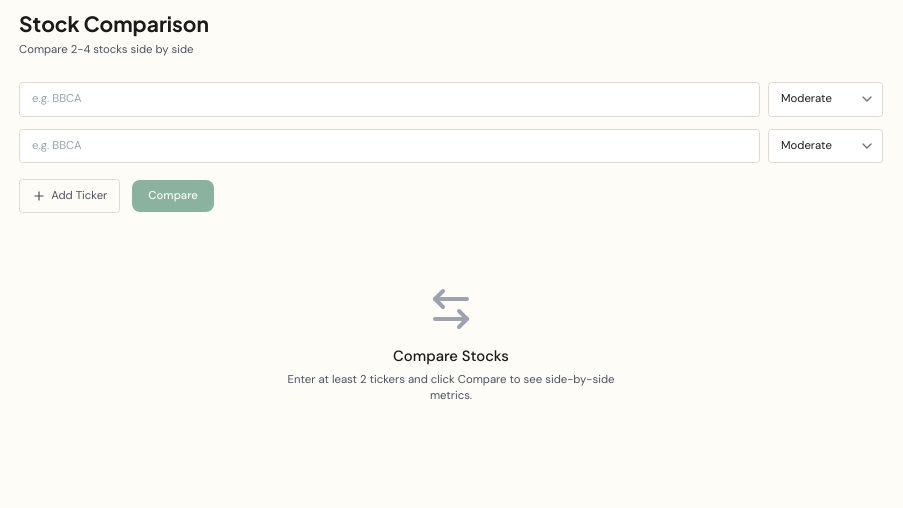
Test: ComparisonPage › adds ticker slot up to 4 and removes down to 2
This screenshot has width=903, height=508.
Expected: the number of elements with test id "ticker-slot" is 2, [19, 82, 883, 117]; [19, 128, 883, 163]
Click the button "Add Ticker" at (70, 196), box [19, 179, 120, 213]
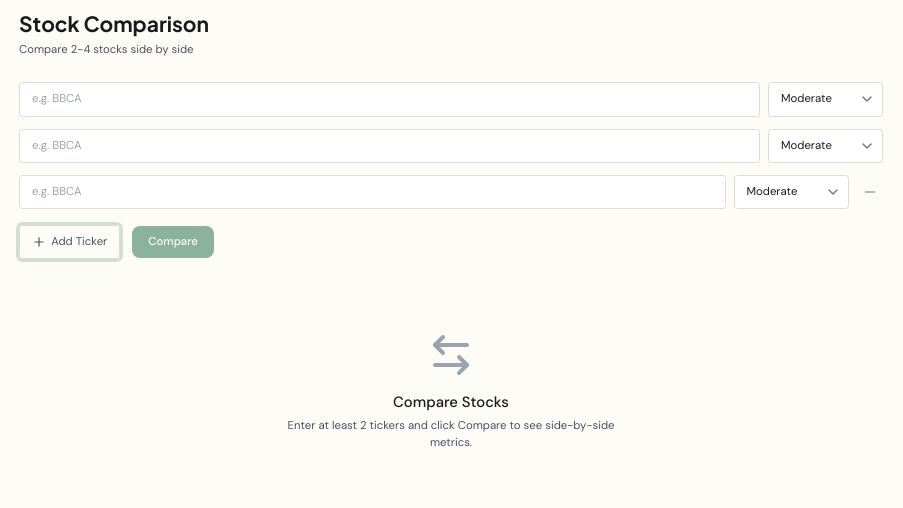
Expected: the number of elements with test id "ticker-slot" is 3, [19, 82, 883, 117]; [19, 128, 883, 163]; [19, 175, 883, 209]
Click the button "Add Ticker" at (70, 242), box [19, 225, 120, 259]
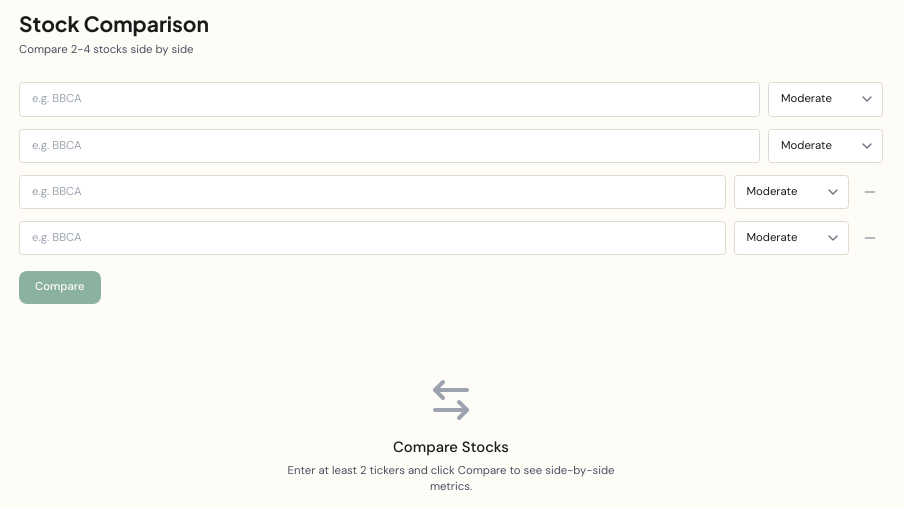
Expected: the number of elements with test id "ticker-slot" is 4, [19, 82, 883, 117]; [19, 128, 883, 163]; [19, 175, 883, 209]; [19, 221, 883, 255]
Expected: the button "Add Ticker" is gone
Click the 1st button named "Remove" at (870, 192), box [856, 179, 883, 205]
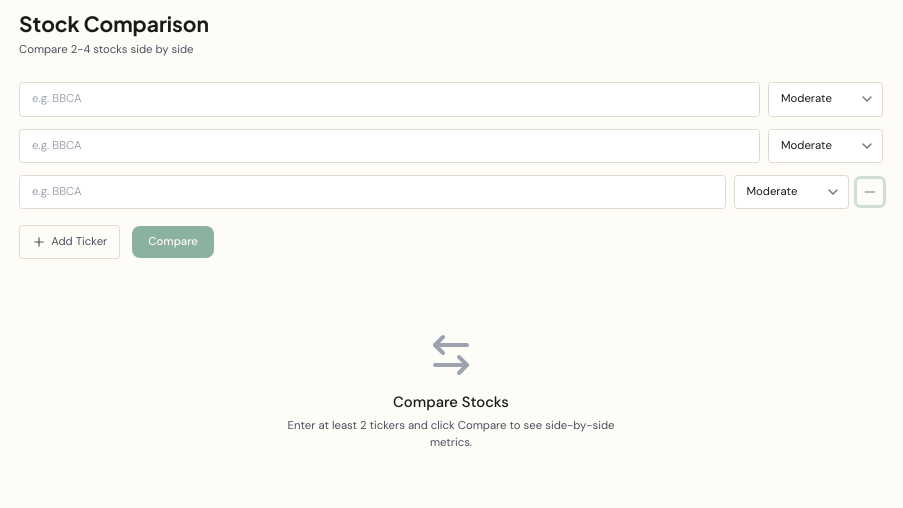
Expected: the number of elements with test id "ticker-slot" is 3, [19, 82, 883, 117]; [19, 128, 883, 163]; [19, 175, 883, 209]
Click the button named "Remove" at (870, 192), box [856, 179, 883, 205]
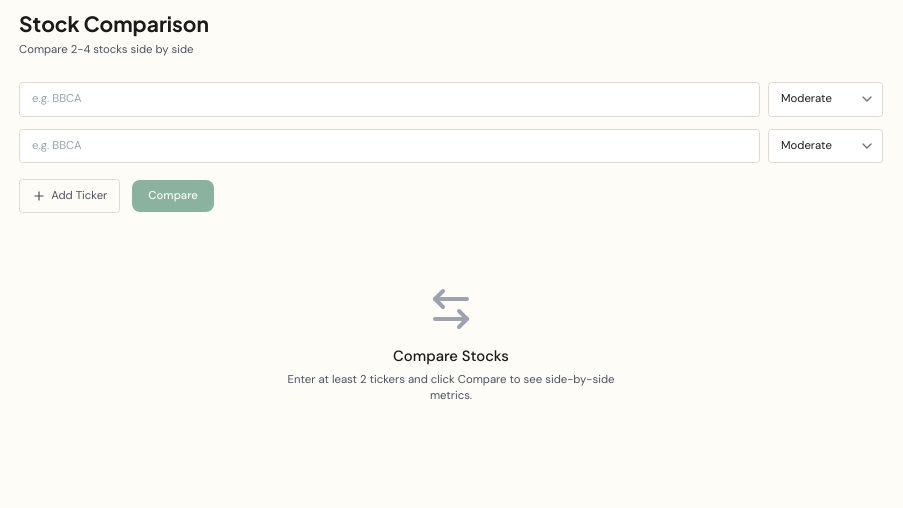
Expected: the number of elements with test id "ticker-slot" is 2, [19, 82, 883, 117]; [19, 128, 883, 163]
